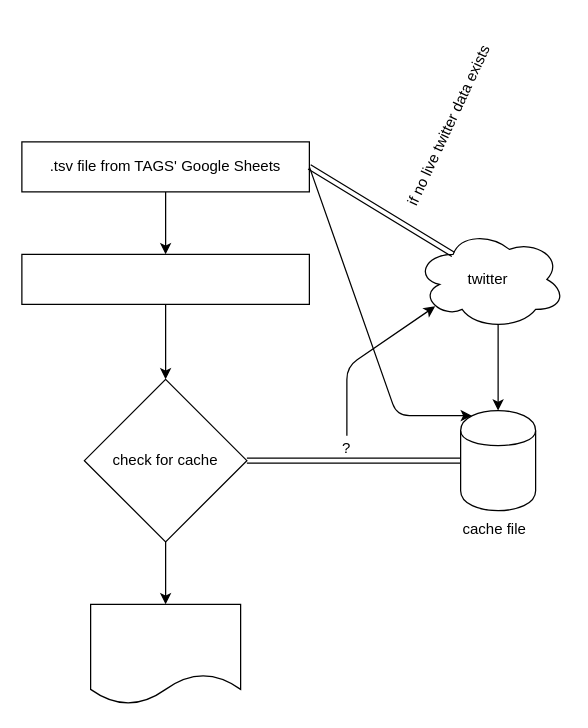
Image size: 588x728. Some labels were removed from this diagram. The centre of each missing label's shape, as x and y in pixels:
list of tweets: pixel 165 278
twitter object JSON: pixel 165 653
